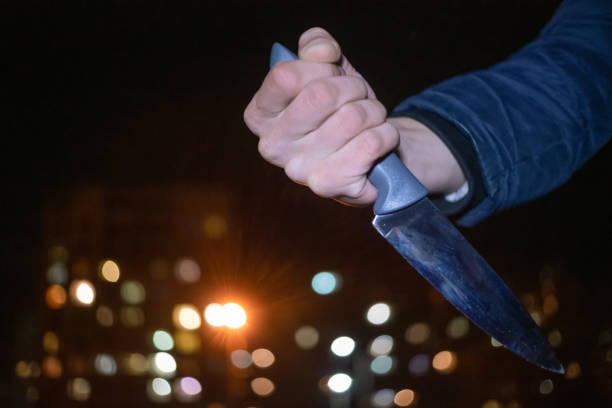knife: (267, 40, 568, 376)
